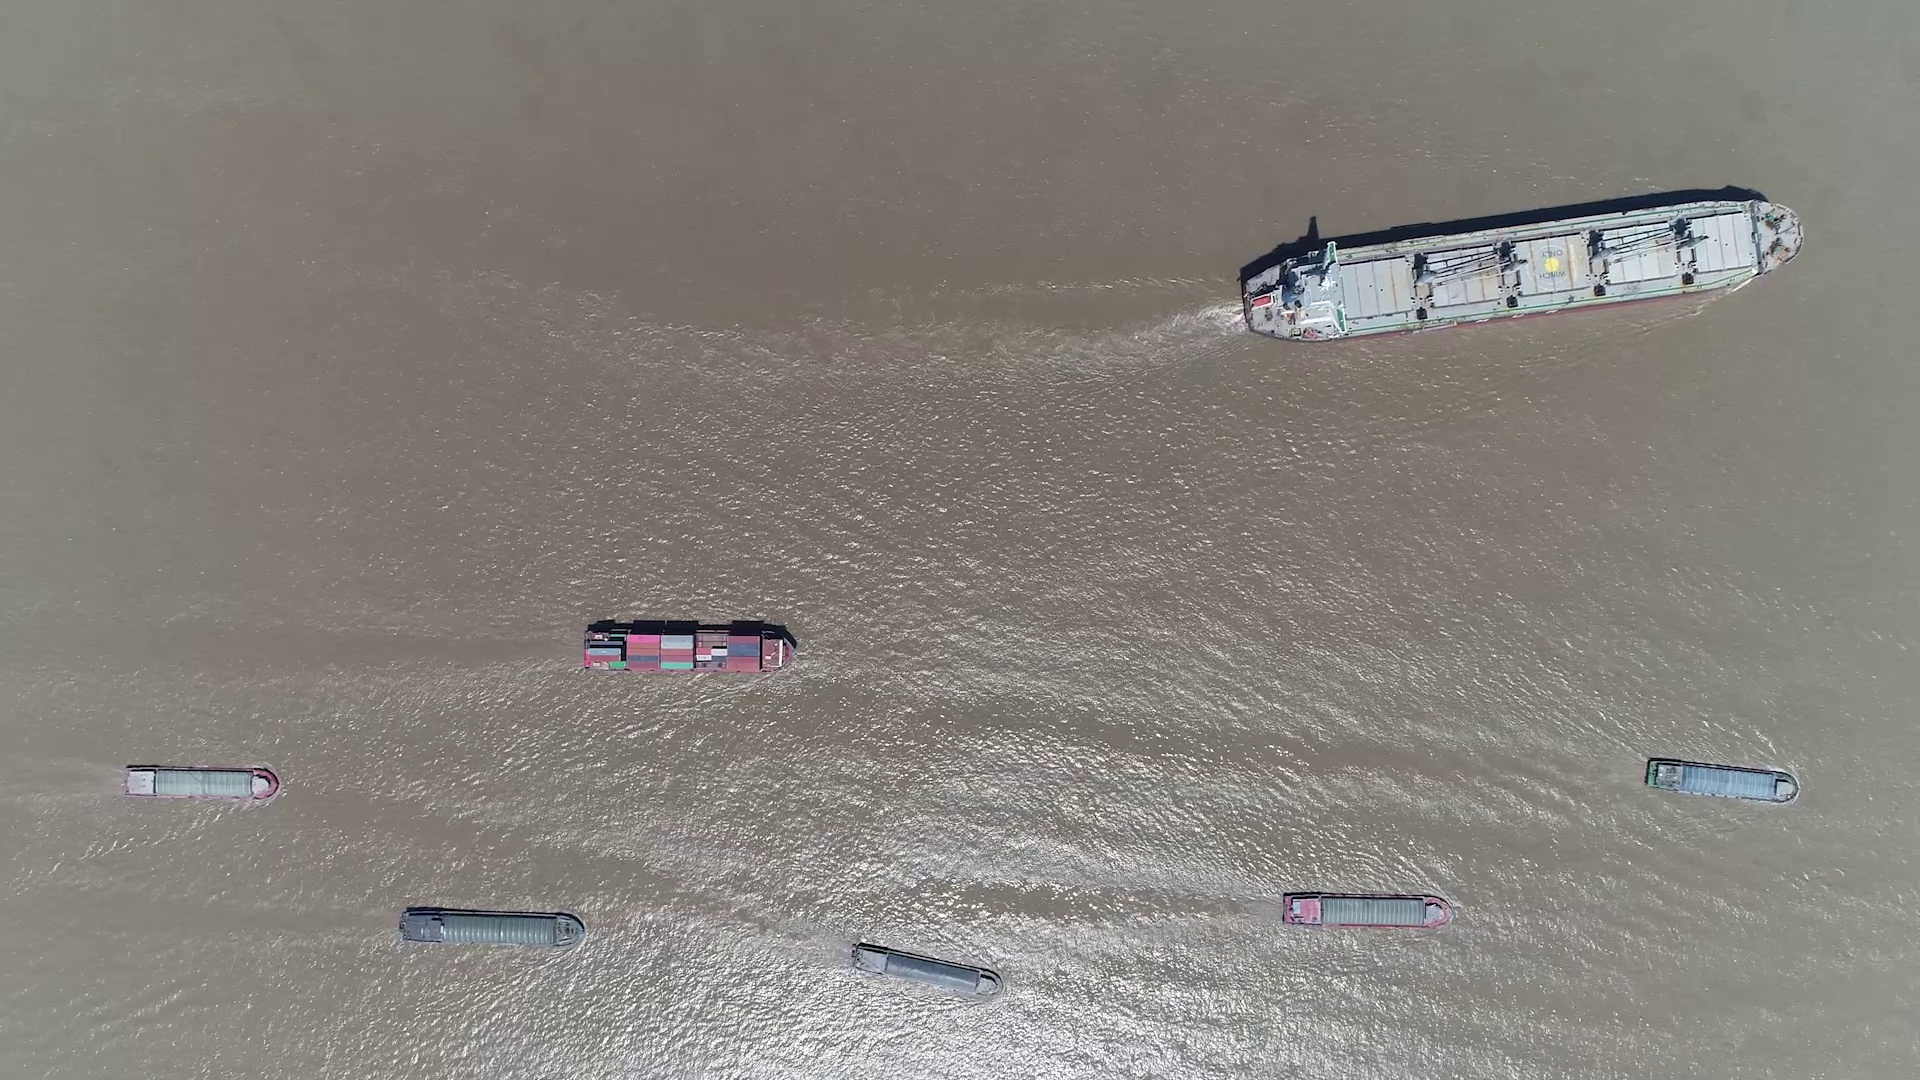ship: (1234, 200, 1803, 342), (582, 625, 795, 675), (849, 942, 1000, 996), (400, 906, 583, 947), (1644, 756, 1797, 803), (1282, 893, 1453, 930), (121, 765, 276, 800)
